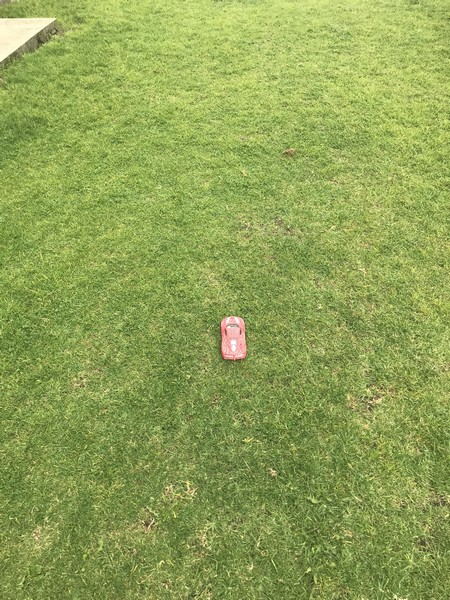RC: (219, 315, 250, 362)
